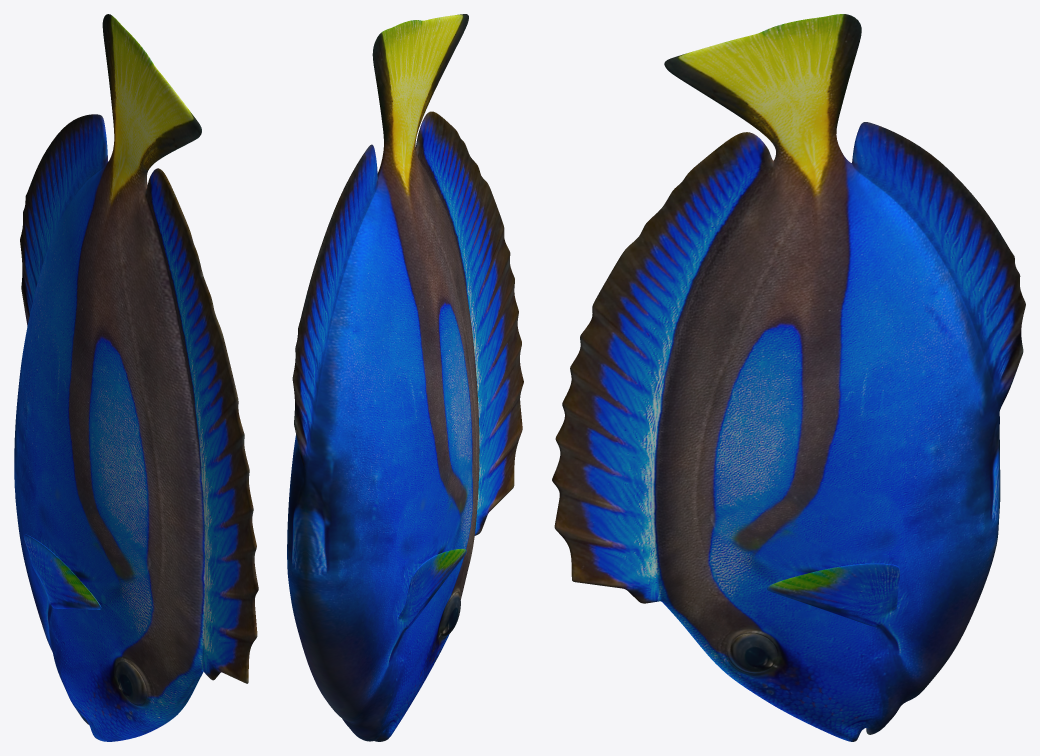
Rendered from tang.obj.
3 renders of one model, left to right at view 1: azimuth 30°, elevation 25°; view 2: azimuth 150°, elevation 25°; view 3: azimuth 270°, elevation 25°, orthographic. The views are drawn at different scales.
Visible parts, largest first — view 1: 13006_Blue_Tang_v1; view 2: 13006_Blue_Tang_v1; view 3: 13006_Blue_Tang_v1.
Part boxes in pixels (left/top/right/bottom): 13006_Blue_Tang_v1: left=14, top=14, right=258, bottom=741; 13006_Blue_Tang_v1: left=287, top=14, right=523, bottom=741; 13006_Blue_Tang_v1: left=552, top=14, right=1025, bottom=741.
Size of the model in its own units: 2.08 by 11.9 by 7.04.
1 material, 1 textured.
